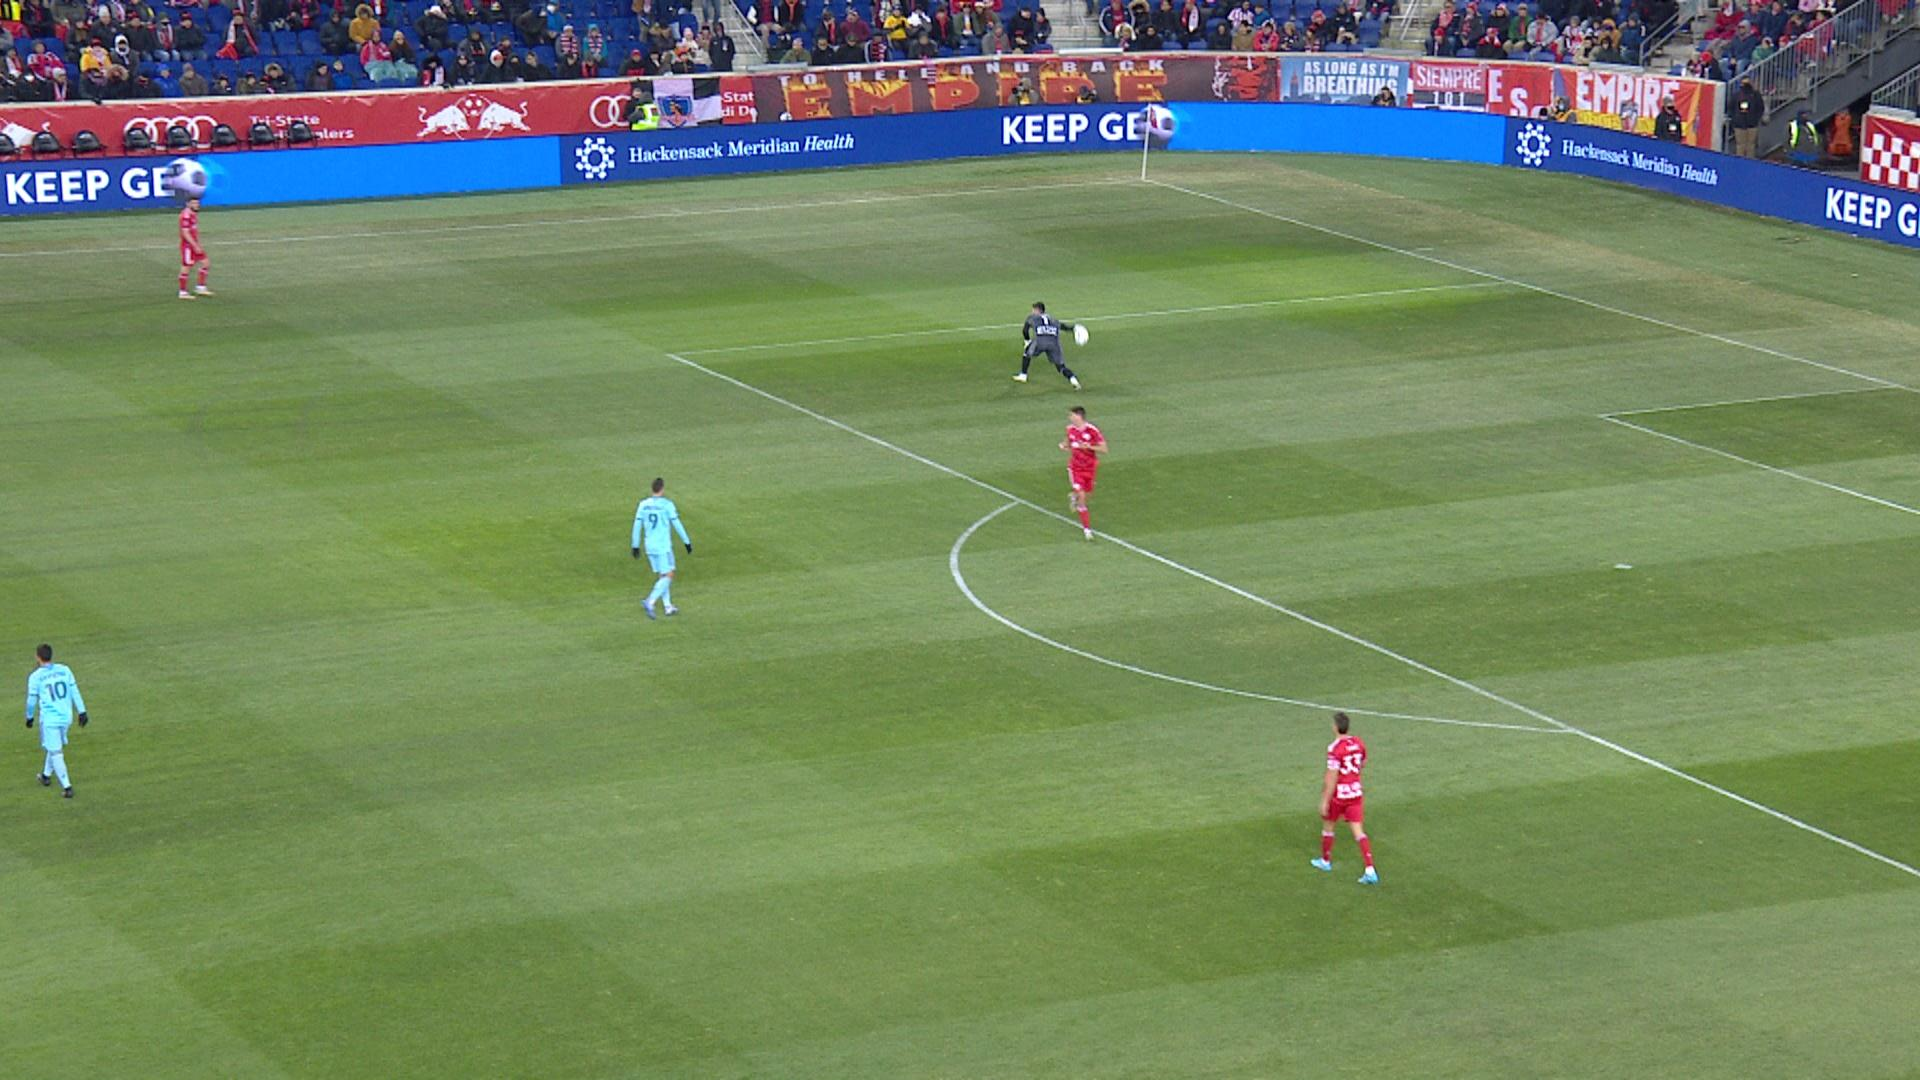football: (1075, 332, 1089, 345)
